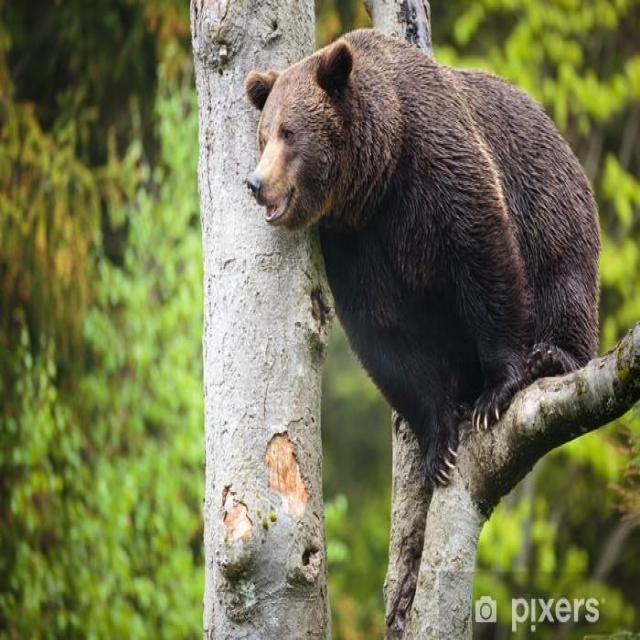Bear: (245, 29, 602, 574)
